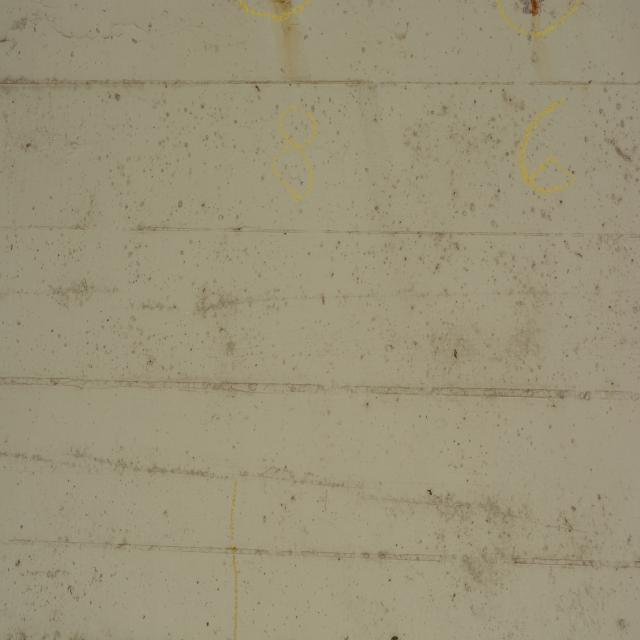corrosion: (527, 0, 540, 16)
